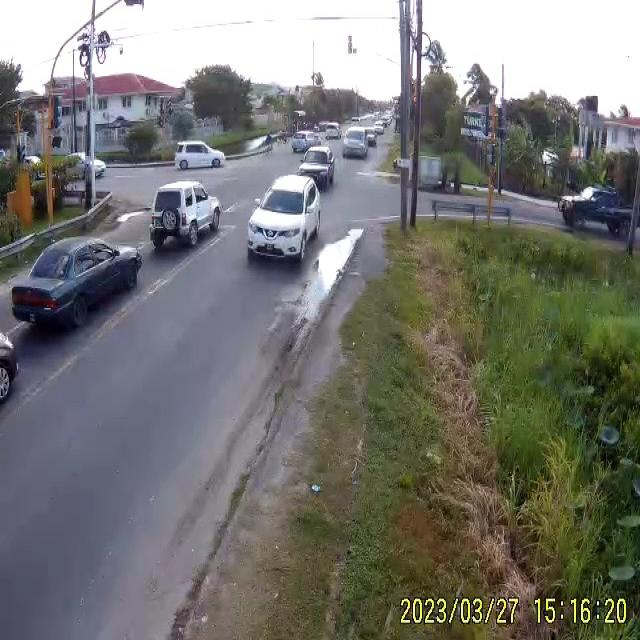car: (10, 237, 142, 334), (247, 176, 323, 263), (150, 181, 222, 248), (562, 188, 626, 234), (298, 148, 334, 191), (173, 142, 224, 171), (342, 126, 366, 157), (291, 128, 318, 152)
